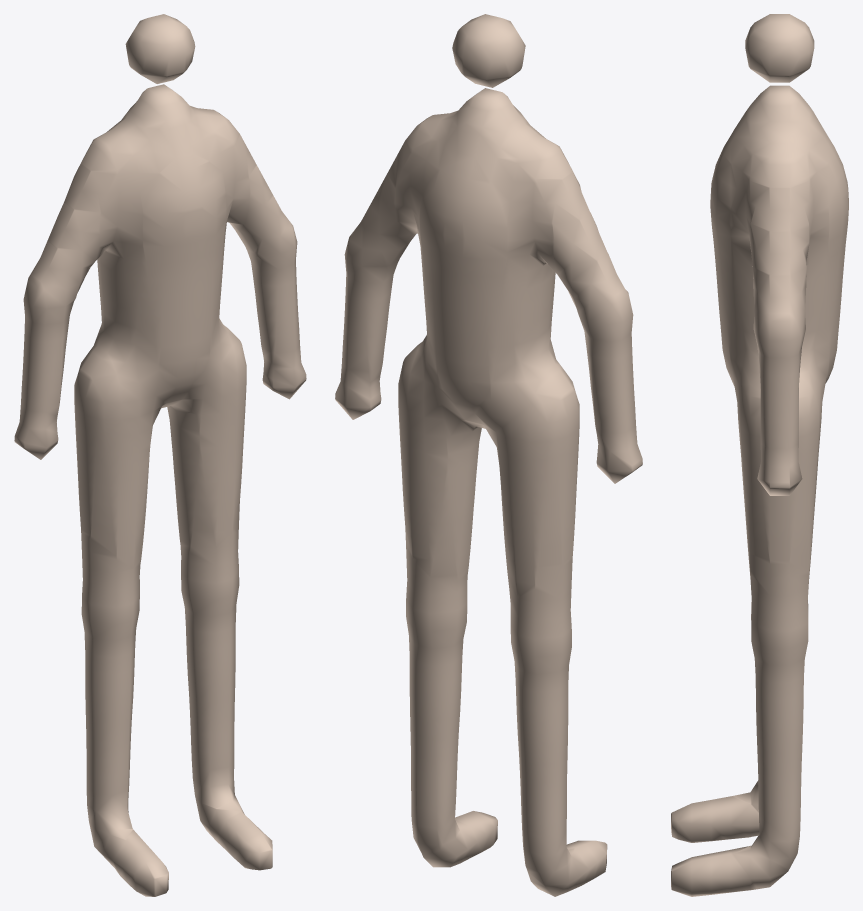
The model's file is body.glb.
The picture shows the model from 3 angles, left to right: view 1: azimuth 30°, elevation 25°; view 2: azimuth 150°, elevation 25°; view 3: azimuth 270°, elevation 25°; orthographic projection. The views are drawn at different scales.
Parts seen in each view (by area): view 1: Body; view 2: Body; view 3: Body.
Boxes of the visible parts, x1,y1,x2,y2 form: Body: (14, 14, 306, 896); Body: (335, 14, 642, 896); Body: (671, 14, 848, 896).
Size of the model in its own units: 0.6401 by 1.8 by 0.3415.
